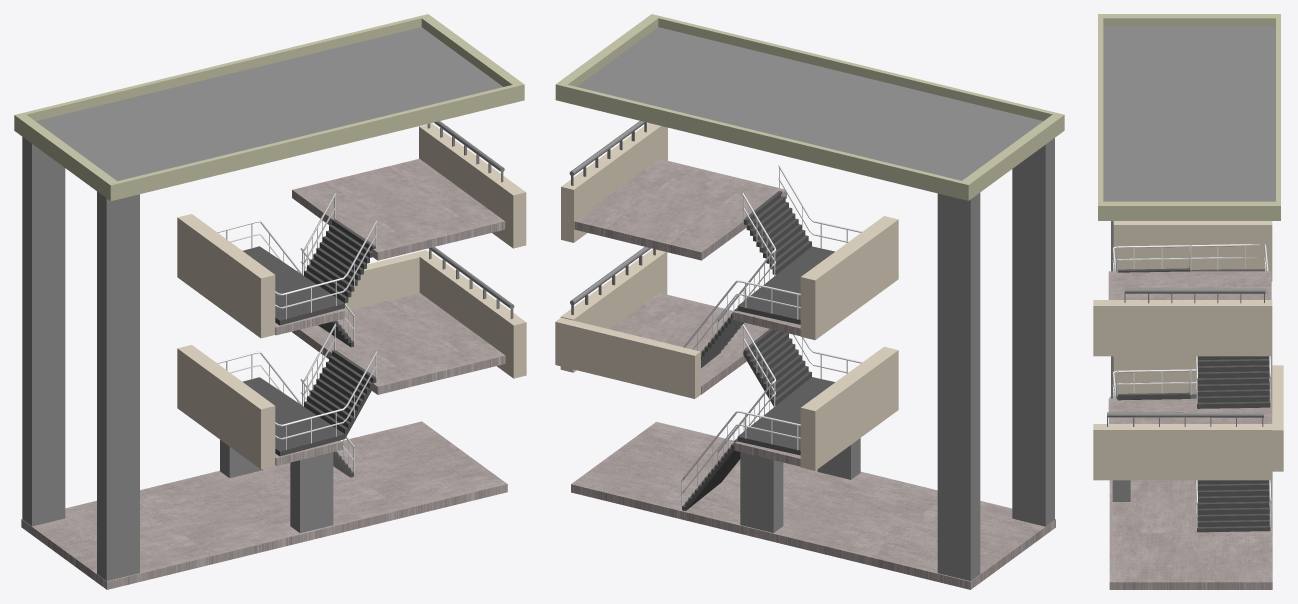
Rendered from 三層樓梯.fbx.
3 views of the same model, side by side, from view 1: azimuth 30°, elevation 25°; view 2: azimuth 150°, elevation 25°; view 3: azimuth 270°, elevation 25° (orthographic). The views are drawn at different scales.
Parts seen in each view (by area): view 1: 建築天花板005, 走廊地板1000.320.023, 中間樓梯柱子004, 中間樓梯柱子003, 三樓樓梯地板, 走廊地板1000.320.028, 走廊面外的下牆995.15.163, 走廊面外的下牆995.15.165, UTypeStair003, UTypeStair002, 走廊面外的下牆995.15.162, 走廊面外的下牆995.15.164 (+11 smaller); view 2: 建築天花板005, 走廊地板1000.320.023, 中間樓梯柱子003, 中間樓梯柱子004, 三樓樓梯地板, 走廊面外的下牆995.15.152, 走廊面外的下牆995.15.165, 走廊面外的下牆995.15.163, UTypeStair002, UTypeStair003, 走廊地板1000.320.028, 走廊面外的下牆995.15.164 (+11 smaller); view 3: 建築天花板005, 走廊地板1000.320.023, 走廊面外的下牆995.15.164, 走廊面外的下牆995.15.162, 走廊面外的下牆995.15.165, UTypeStair002, UTypeStair003, 三樓樓梯地板, 走廊面外的下牆995.15.163, 走廊地板1000.320.028, 走廊面外的下牆995.15.152, 二樓樓梯 (+4 smaller).
Part boxes in pixels (x1,y1,x2,y2): 建築天花板005: [14, 14, 524, 201]; 走廊地板1000.320.023: [21, 421, 507, 589]; 中間樓梯柱子004: [97, 191, 139, 580]; 中間樓梯柱子003: [22, 137, 65, 526]; 三樓樓梯地板: [292, 159, 505, 260]; 走廊地板1000.320.028: [292, 293, 505, 394]; 走廊面外的下牆995.15.163: [177, 345, 275, 469]; 走廊面外的下牆995.15.165: [177, 214, 275, 338]; UTypeStair003: [242, 219, 375, 347]; UTypeStair002: [242, 350, 376, 477]; 走廊面外的下牆995.15.162: [419, 253, 526, 378]; 走廊面外的下牆995.15.164: [419, 123, 526, 248]; 建築天花板005: [555, 14, 1064, 200]; 走廊地板1000.320.023: [571, 422, 1055, 589]; 中間樓梯柱子003: [937, 192, 980, 581]; 中間樓梯柱子004: [1012, 138, 1054, 526]; 三樓樓梯地板: [574, 159, 786, 260]; 走廊面外的下牆995.15.152: [555, 317, 700, 398]; 走廊面外的下牆995.15.165: [800, 216, 898, 340]; 走廊面外的下牆995.15.163: [800, 346, 898, 470]; UTypeStair002: [682, 329, 835, 510]; UTypeStair003: [701, 191, 834, 367]; 走廊地板1000.320.028: [610, 293, 769, 394]; 走廊面外的下牆995.15.164: [561, 123, 667, 242]; 建築天花板005: [1098, 14, 1280, 220]; 走廊地板1000.320.023: [1109, 396, 1272, 589]; 走廊面外的下牆995.15.164: [1093, 300, 1272, 356]; 走廊面外的下牆995.15.162: [1093, 424, 1272, 480]; 走廊面外的下牆995.15.165: [1113, 221, 1272, 281]; UTypeStair002: [1117, 392, 1270, 532]; UTypeStair003: [1117, 268, 1270, 408]; 三樓樓梯地板: [1108, 271, 1271, 299]; 走廊面外的下牆995.15.163: [1113, 356, 1272, 405]; 走廊地板1000.320.028: [1108, 398, 1271, 423]; 走廊面外的下牆995.15.152: [1272, 365, 1283, 471]; 二樓樓梯: [1112, 244, 1271, 402].
Size of the model in its own units: 488 by 462 by 204.
Materials: 7 (1 with a texture image).
